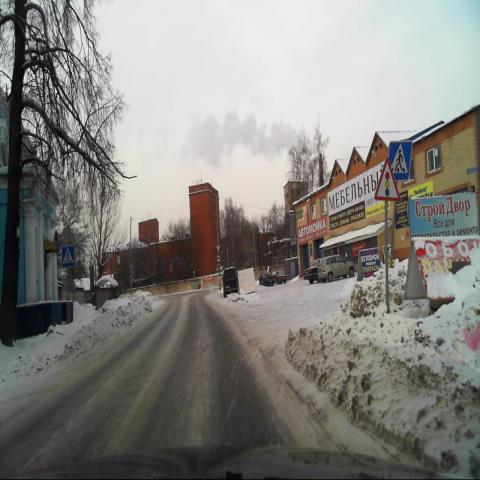1_8: (374, 160, 400, 202)
